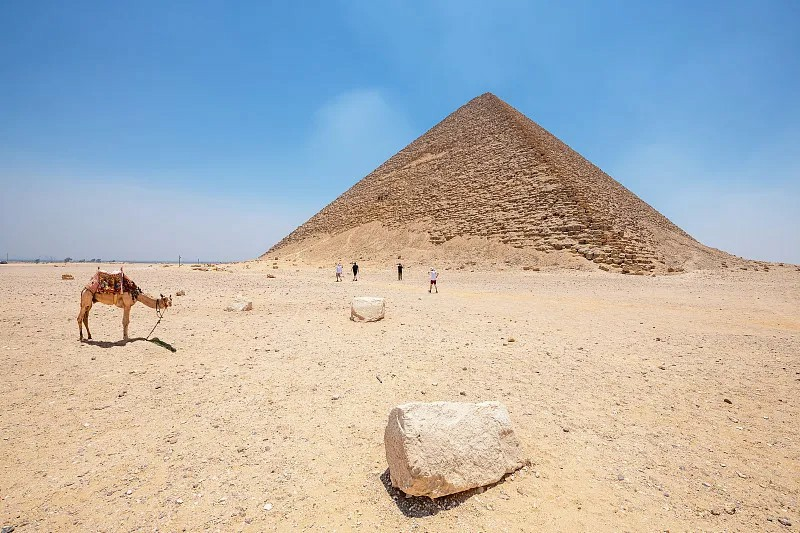Pyramid: (252, 90, 732, 276)
